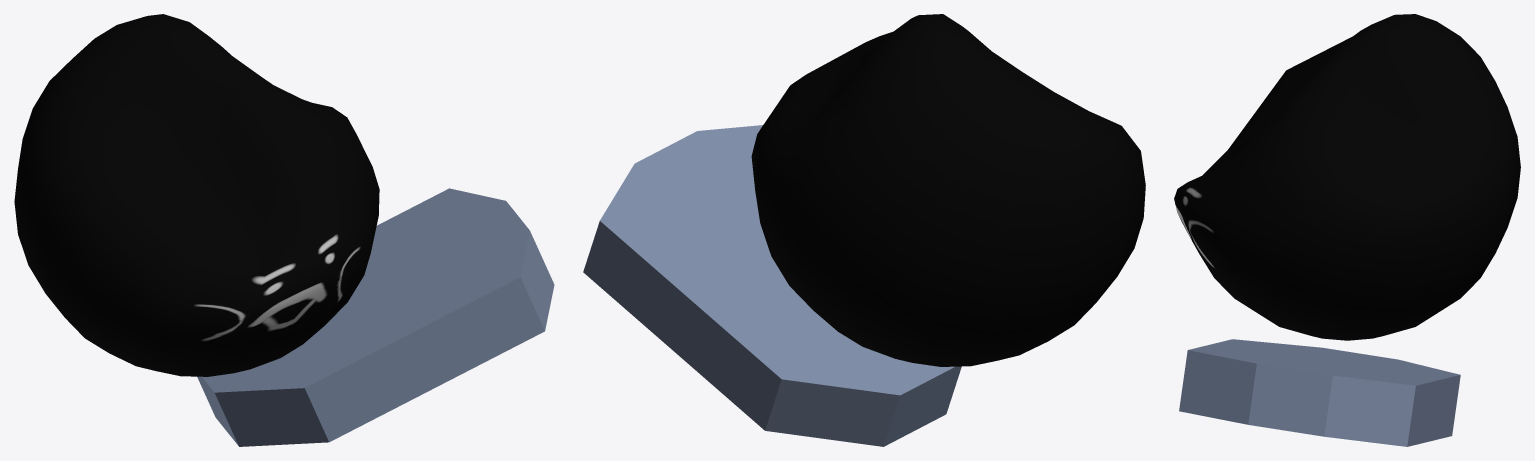
Rendered from TestBubbleTank_B.fbx.
3 renders of one model, left to right at view 1: azimuth 30°, elevation 25°; view 2: azimuth 150°, elevation 25°; view 3: azimuth 270°, elevation 25°, orthographic. The views are drawn at different scales.
Parts seen in each view (by area): view 1: bule.010, shield.005; view 2: bule.010, shield.005; view 3: bule.010, shield.005.
Boxes of the visible parts, x1=… form: bule.010: x1=14, y1=14, x2=379, y2=376; shield.005: x1=197, y1=188, x2=554, y2=446; bule.010: x1=751, y1=14, x2=1145, y2=366; shield.005: x1=583, y1=125, x2=961, y2=446; bule.010: x1=1174, y1=14, x2=1520, y2=340; shield.005: x1=1179, y1=339, x2=1460, y2=446.
Bounding box in the file's own units: 234 × 188 × 157.
2 materials, 1 textured.
